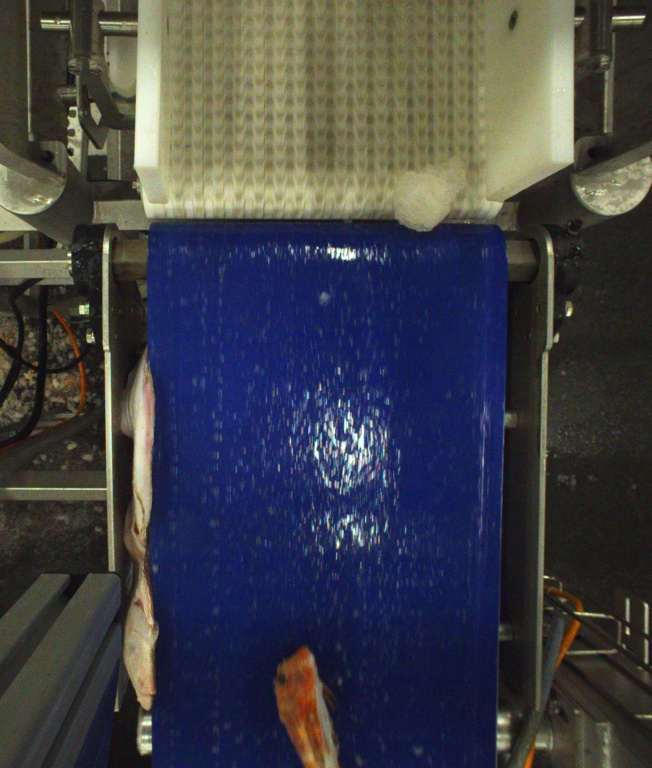GUU: (274, 646, 341, 768)
